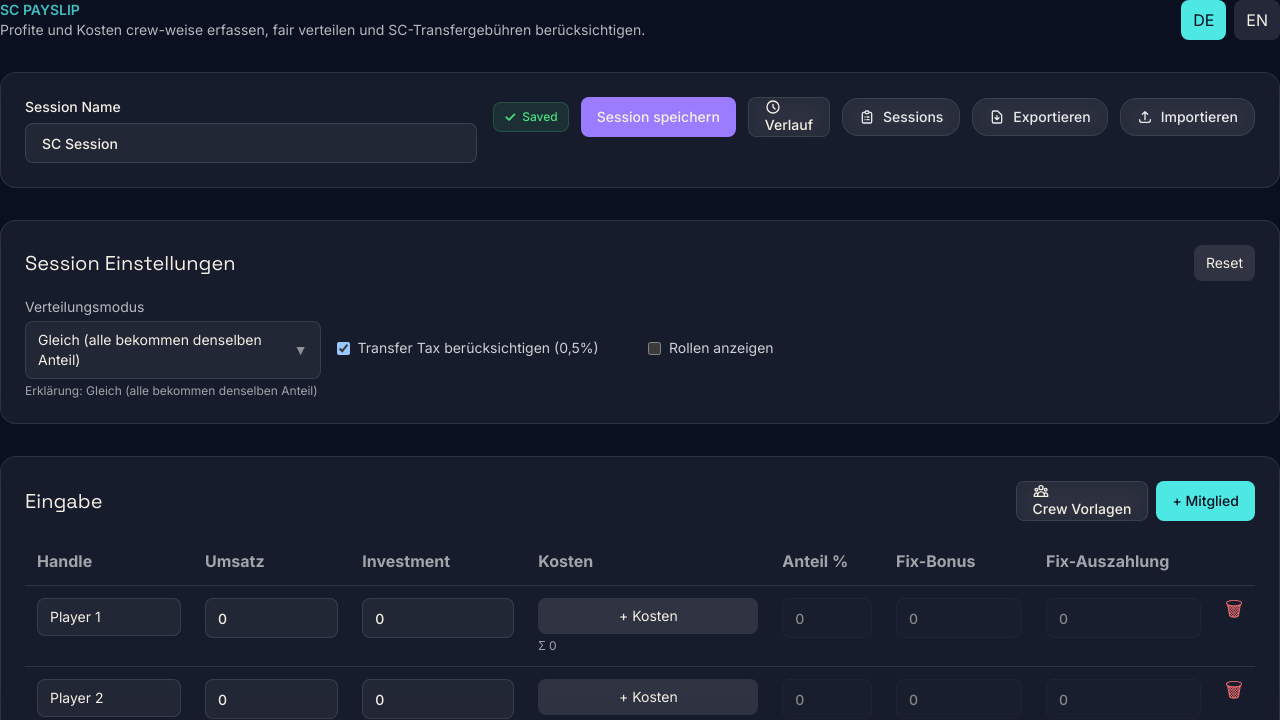
SessionWizard - Member Management › should start at Player 1 when adding a member after all members are removed
// Remove all members
Click the 1st button titled "Entfernen". click: (1234, 609)
box: left=1225, top=599, right=1243, bottom=619
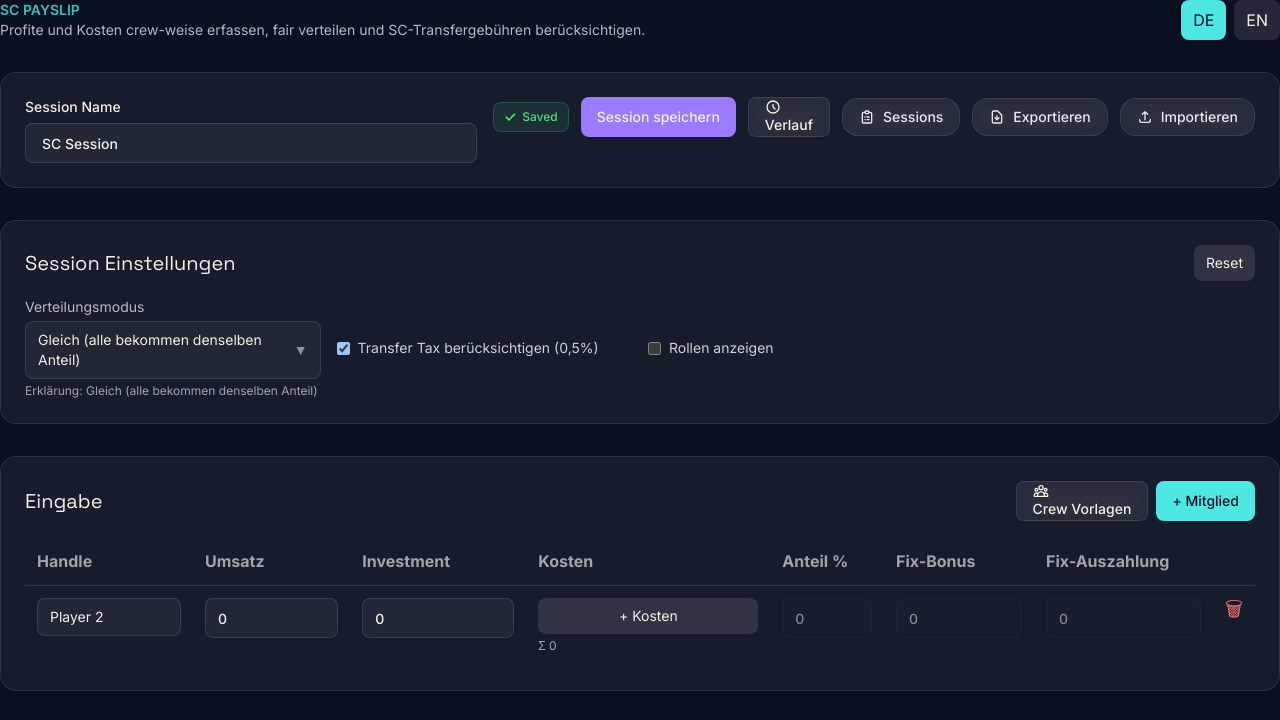
// Get updated delete buttons (the list has changed)
Click the button titled "Entfernen". click: (1234, 609)
box: left=1225, top=599, right=1243, bottom=619
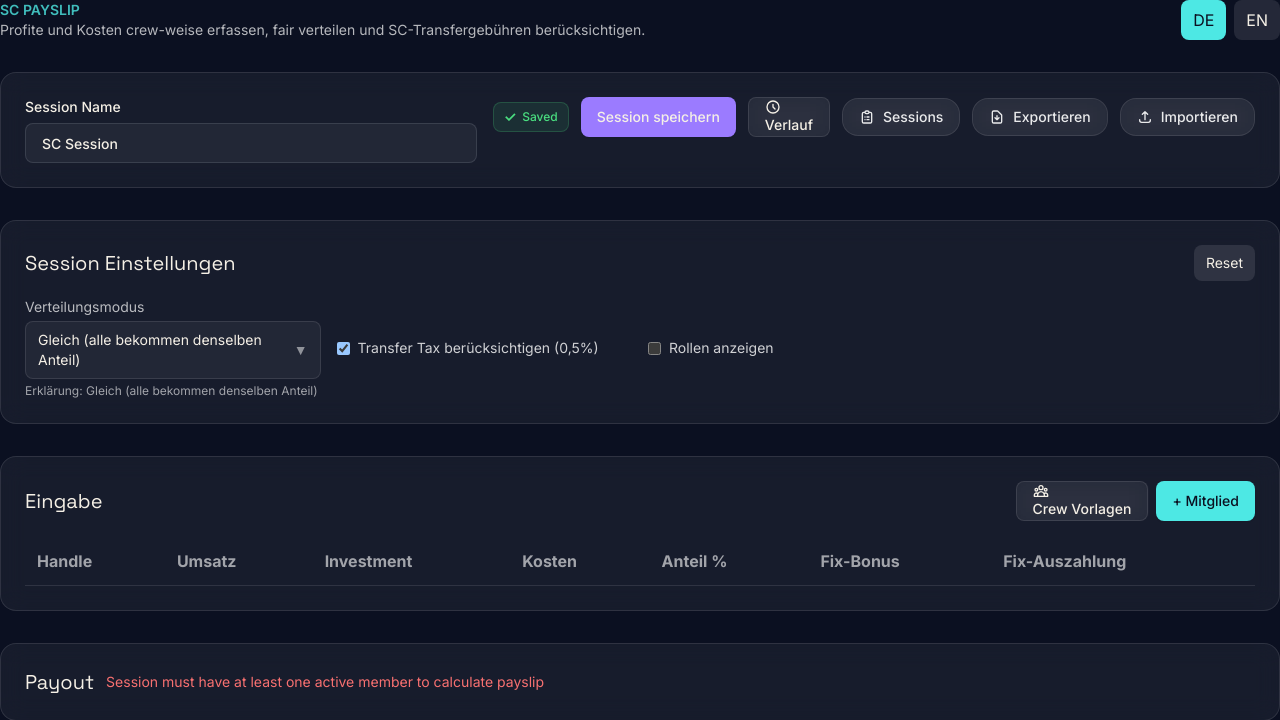
// Now add a new member - should be Player 1
Click the button "+ Mitglied". click: (1206, 501)
box: left=1156, top=481, right=1255, bottom=521
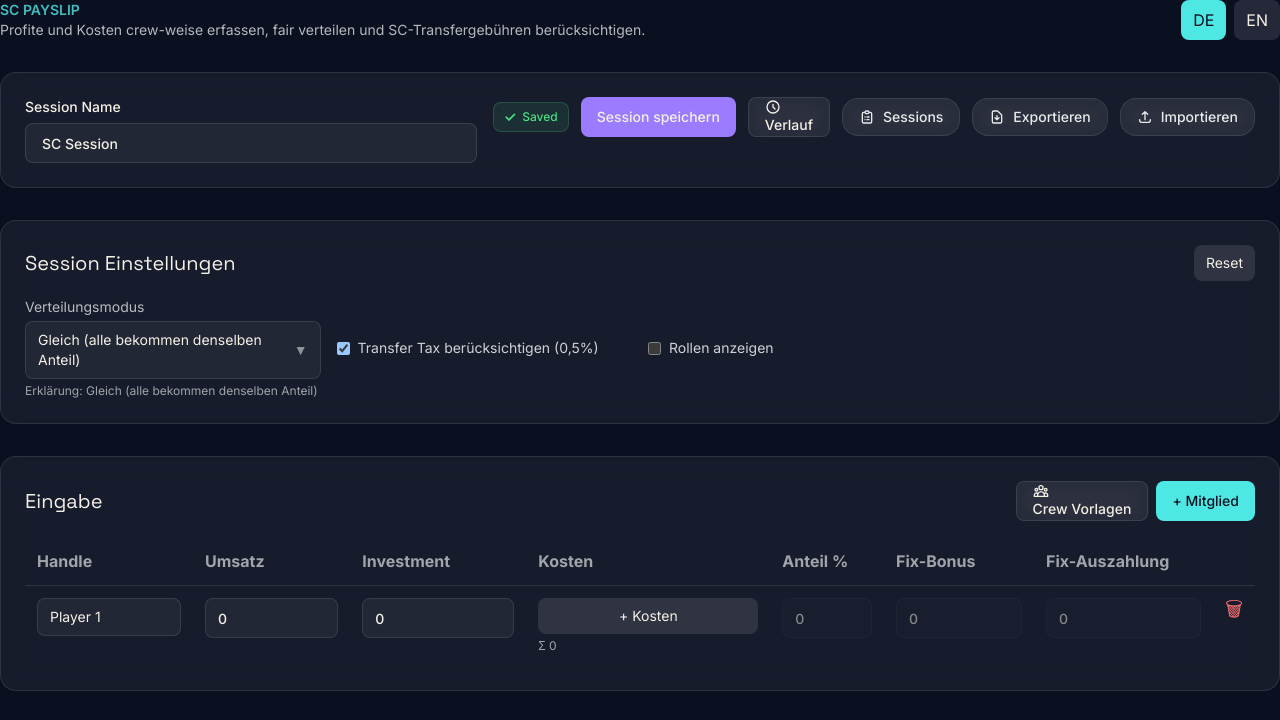
Now the 1st field showing "Player 1" is shown, box left=37, top=598, right=181, bottom=636
